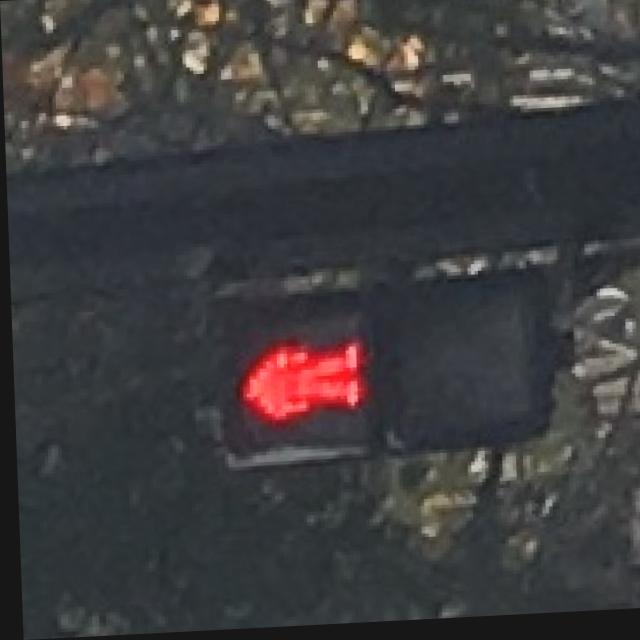red_light: (210, 307, 370, 452)
